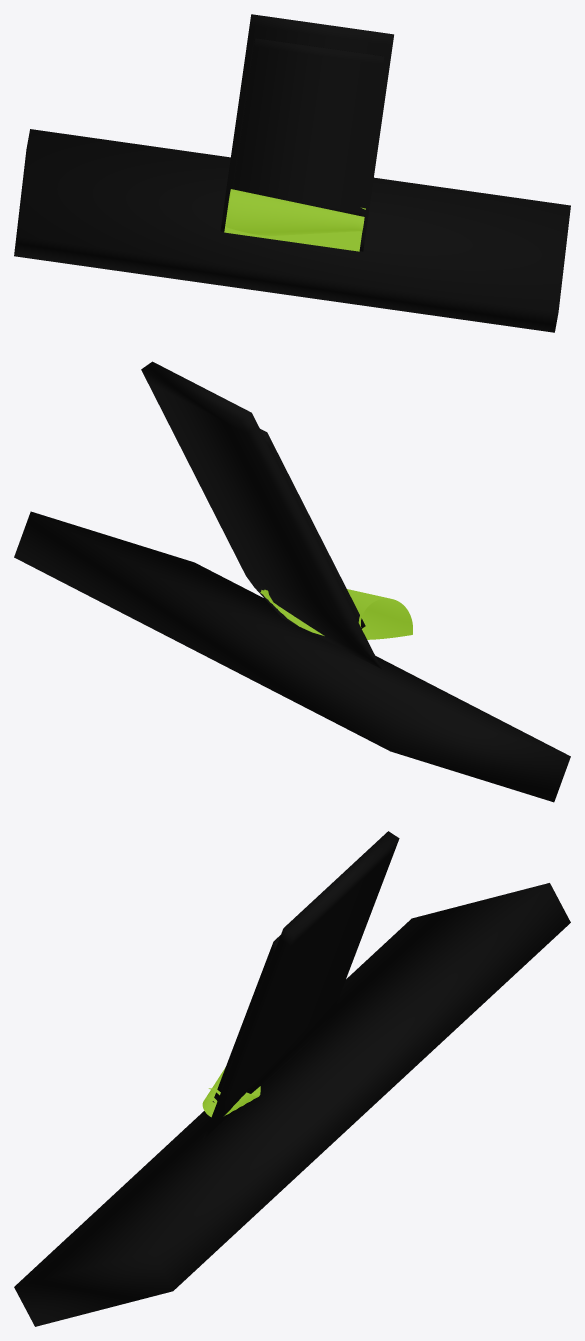
The picture shows the model from 3 angles, top to bottom: view 1: azimuth 30°, elevation 25°; view 2: azimuth 150°, elevation 25°; view 3: azimuth 270°, elevation 25°; orthographic projection. The views are drawn at different scales.
Parts seen in each view (by area): view 1: ita, ura, ha, kuzu; view 2: ita, ha, kuzu, ura; view 3: ita, ha, ura, kuzu.
Part boxes in pixels (x1=…): ita: x1=14, y1=129, x2=570, y2=332; ura: x1=233, y1=38, x2=384, y2=216; ha: x1=220, y1=14, x2=393, y2=251; kuzu: x1=224, y1=189, x2=365, y2=251; ita: x1=14, y1=511, x2=570, y2=802; ha: x1=141, y1=361, x2=381, y2=669; kuzu: x1=260, y1=589, x2=412, y2=639; ura: x1=260, y1=429, x2=365, y2=628; ita: x1=14, y1=883, x2=570, y2=1326; ha: x1=203, y1=831, x2=399, y2=1139; ura: x1=212, y1=935, x2=280, y2=1102; kuzu: x1=202, y1=1067, x2=260, y2=1117.
Size of the model in its own units: 7.06 by 3.91 by 5.25.
